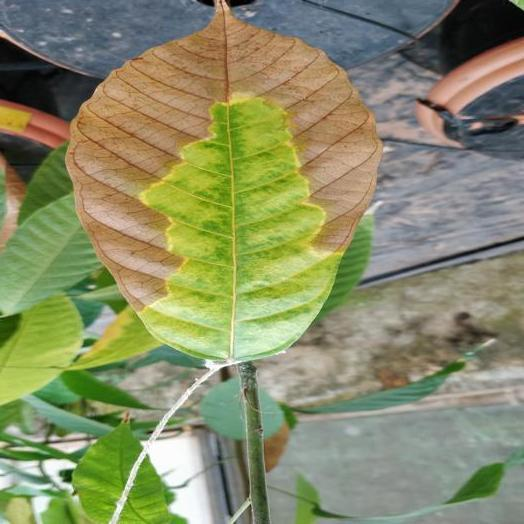Potassium: (66, 0, 380, 364)
